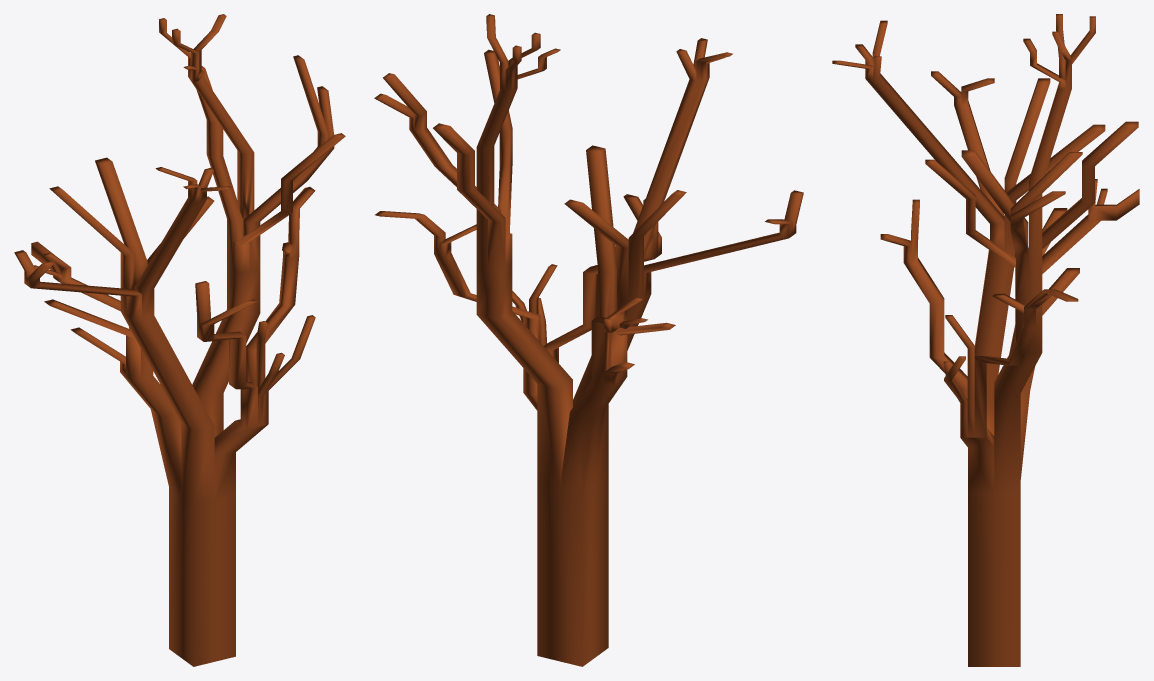
Rendered from tree.glb.
3 views of the same model, side by side, from view 1: azimuth 30°, elevation 25°; view 2: azimuth 150°, elevation 25°; view 3: azimuth 270°, elevation 25° (orthographic). The views are drawn at different scales.
Visible parts, largest first — view 1: tree; view 2: tree; view 3: tree.
Boxes of the visible parts, x1,y1,x2,y2 form: tree: (14,14,345,666); tree: (374,14,803,666); tree: (832,14,1139,666).
Bounding box in the file's own units: 1.85 × 3.12 × 1.34.
